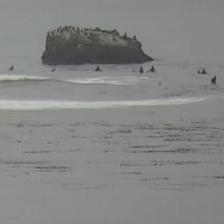surfer: (146, 65, 157, 74), (42, 68, 56, 73), (210, 75, 217, 85), (94, 65, 102, 73), (138, 66, 145, 74), (200, 69, 208, 74), (8, 66, 14, 71)
